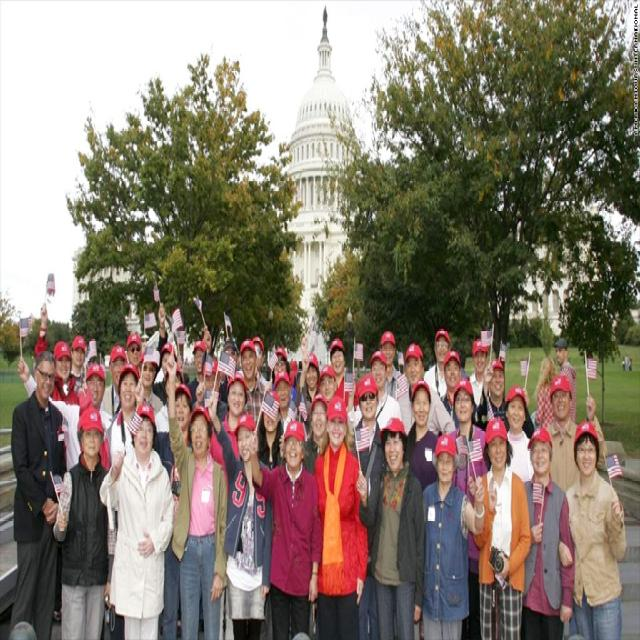body: (163, 346, 228, 640), (98, 400, 174, 640), (542, 372, 608, 638), (206, 387, 273, 639), (354, 414, 426, 640), (8, 350, 64, 640), (248, 418, 320, 640), (17, 314, 116, 472), (48, 402, 114, 639), (560, 417, 628, 639), (310, 390, 370, 639), (472, 413, 532, 640), (421, 434, 485, 640), (516, 423, 575, 639), (446, 377, 489, 639), (152, 382, 194, 640), (348, 373, 384, 639), (33, 301, 82, 470), (150, 268, 213, 397), (396, 341, 456, 438), (212, 372, 248, 500), (346, 348, 402, 430), (192, 351, 228, 466), (104, 362, 140, 471), (403, 377, 438, 489), (504, 384, 535, 484), (254, 387, 286, 471), (474, 356, 509, 431), (294, 346, 336, 406), (300, 394, 330, 476), (329, 337, 361, 409), (136, 345, 166, 419), (422, 327, 450, 401), (552, 338, 576, 424), (466, 337, 490, 422), (100, 342, 128, 414), (438, 349, 462, 431), (532, 356, 558, 430), (379, 329, 403, 402), (254, 333, 292, 378), (272, 368, 296, 436), (68, 332, 88, 398), (217, 336, 239, 376), (126, 330, 146, 368), (154, 396, 169, 440), (100, 422, 112, 472), (619, 346, 635, 376), (76, 383, 92, 412), (396, 351, 406, 370)
